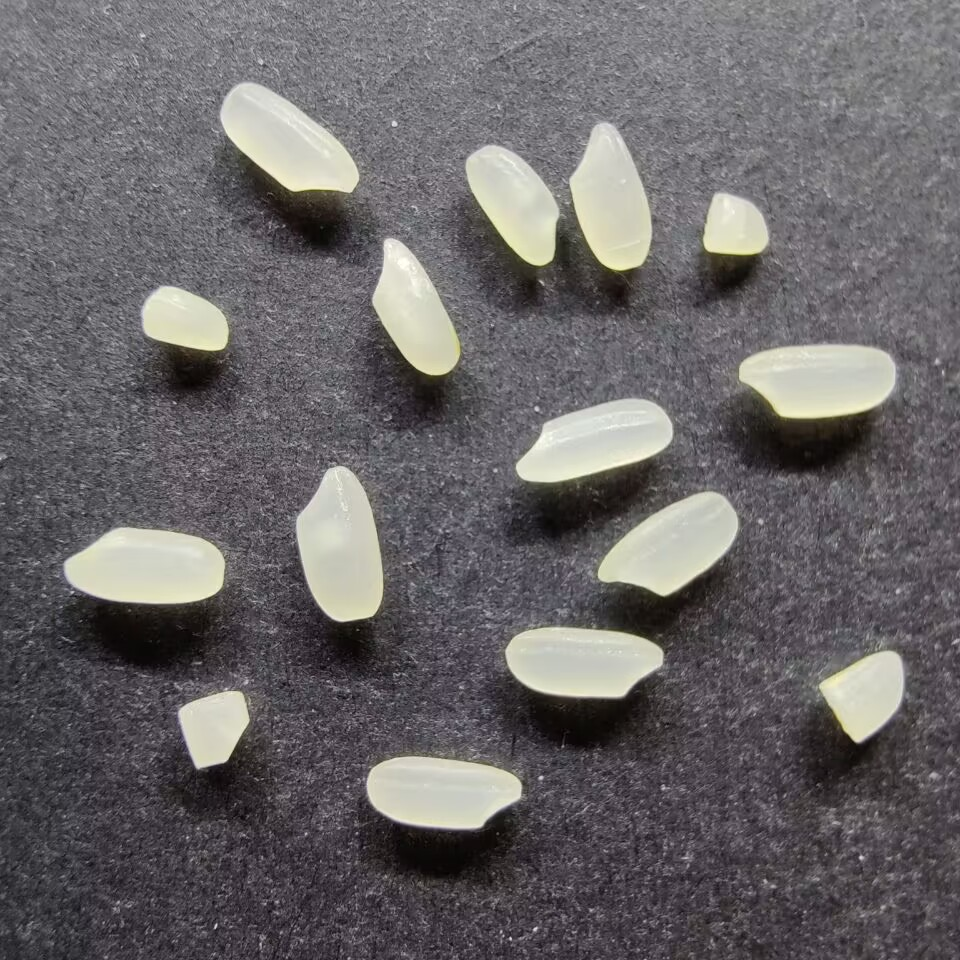broken: (818, 648, 907, 746), (136, 283, 232, 353), (174, 688, 253, 771), (698, 190, 773, 255)
rice: (217, 80, 360, 197), (595, 489, 740, 598), (292, 464, 386, 624), (513, 396, 675, 484), (61, 525, 227, 606), (566, 120, 654, 272), (369, 234, 462, 377), (736, 341, 898, 419), (502, 624, 667, 700), (462, 143, 562, 267), (364, 754, 523, 830)
